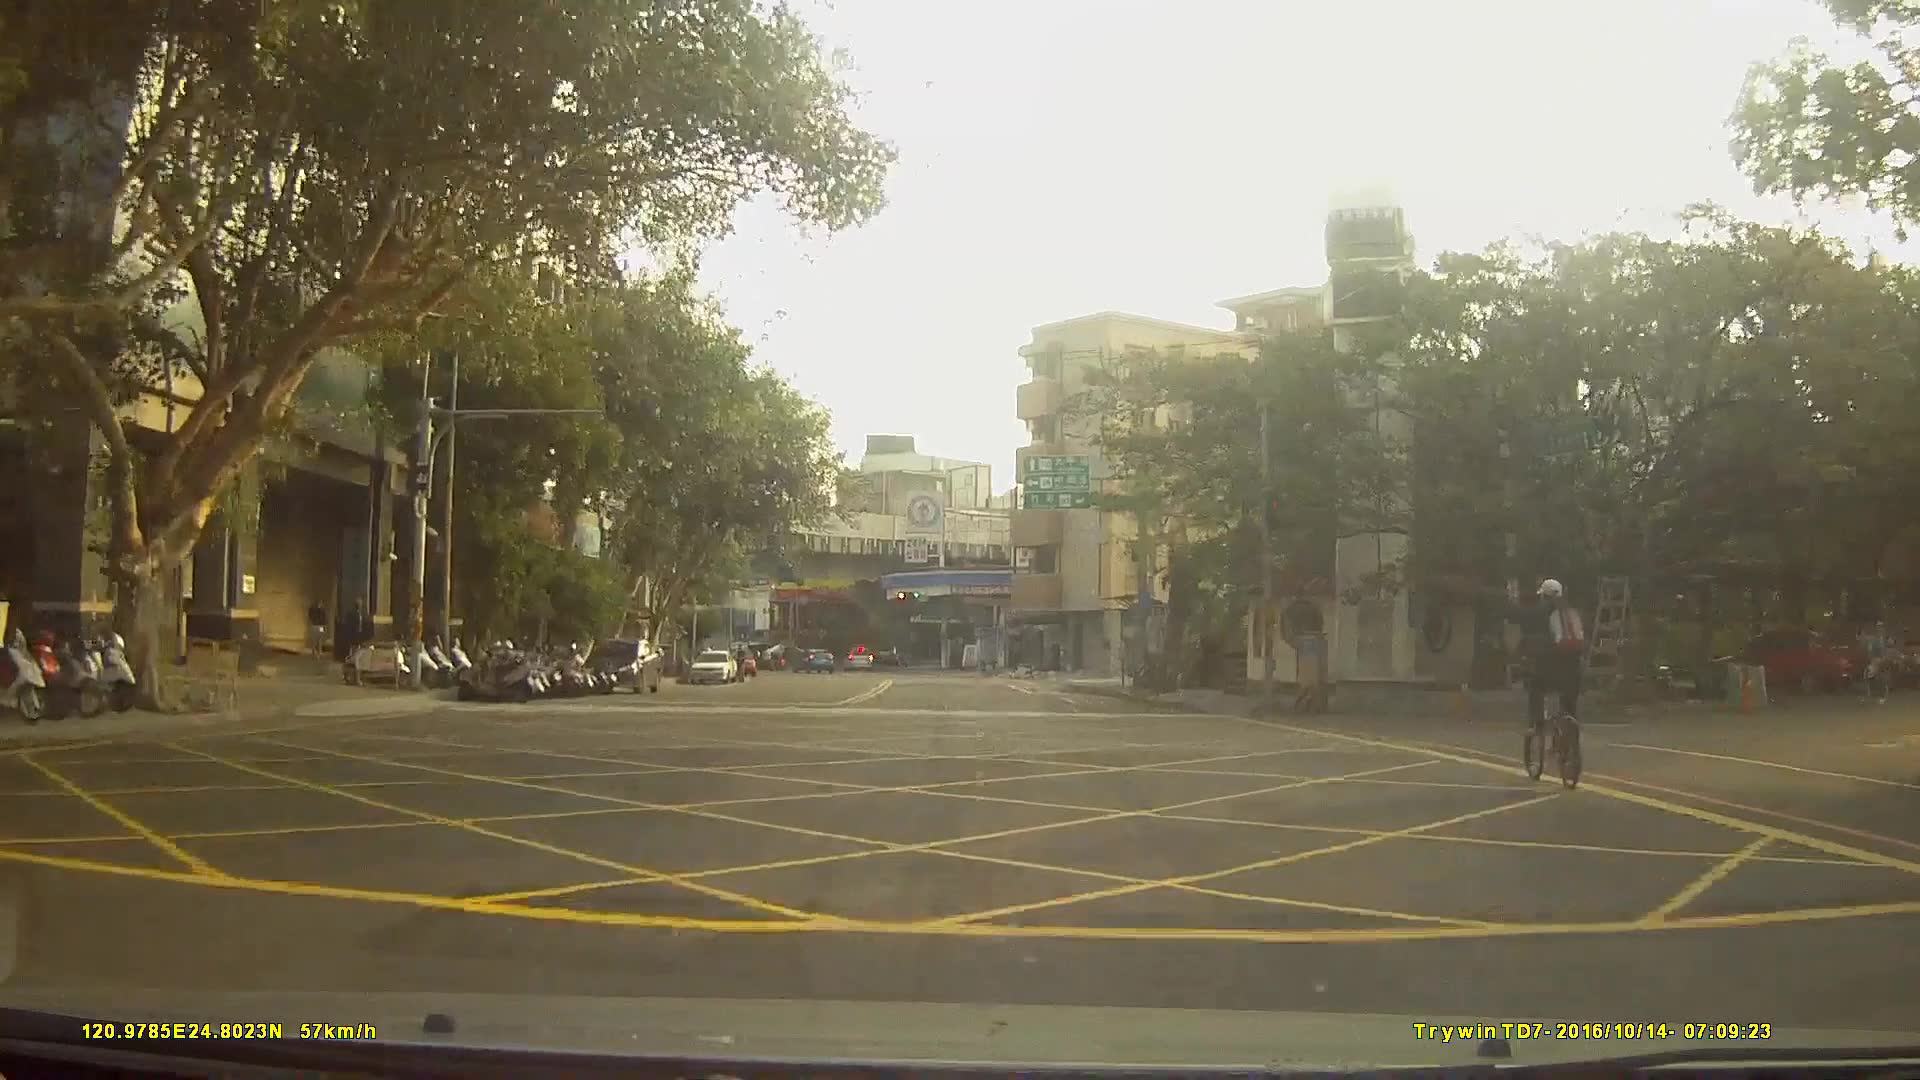pedestrian: (306, 599, 328, 662)
rider: (1507, 577, 1587, 793)
vehicle: (1710, 623, 1853, 694), (586, 635, 661, 691), (688, 647, 736, 684), (794, 643, 834, 670), (844, 643, 875, 671)
